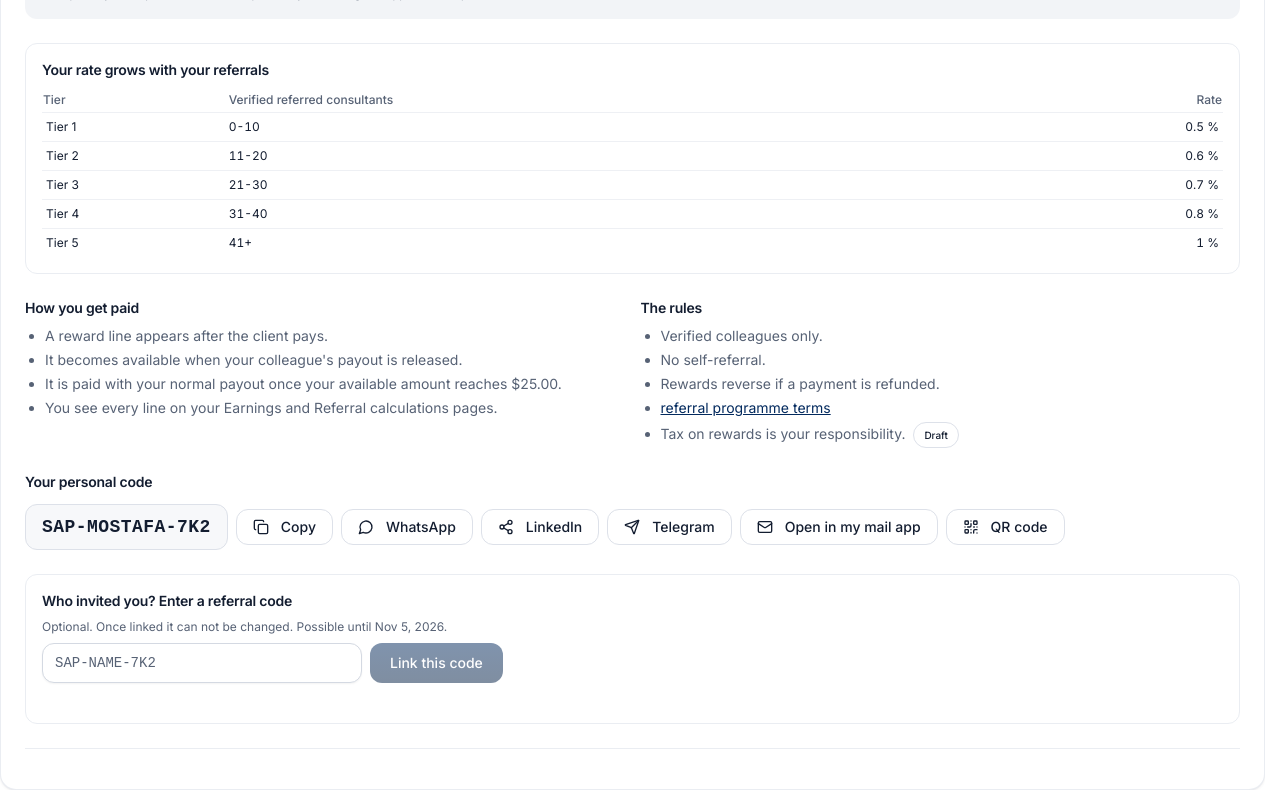
it: Refer & earn onboarding step › validates "Who invited you?" live and shows the masked owner name
(page scrolled)
Type "sap-rami-7k2" into the field with placeholder "SAP-NAME-7K2" at (202, 662), box x1=42 y1=642 x2=362 y2=682
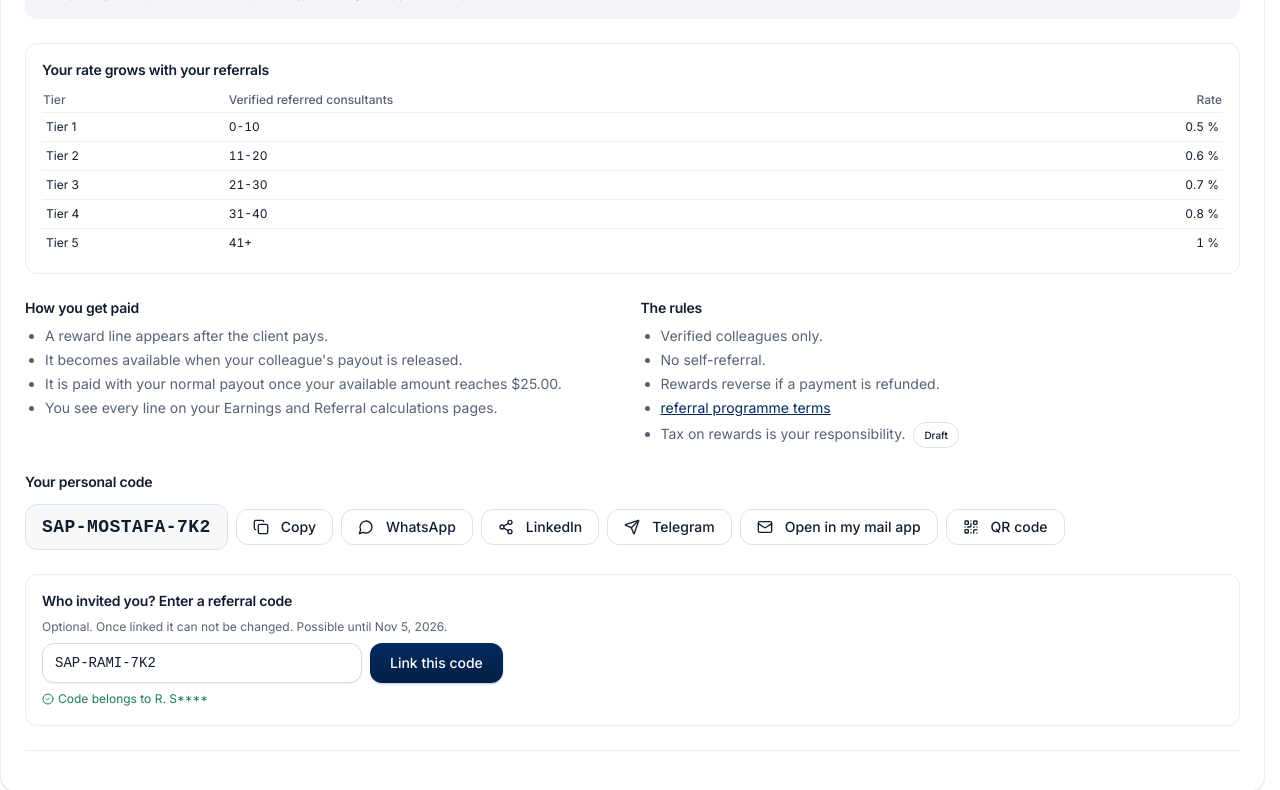
Check: the text "Code belongs to R. S****" is shown, box x1=42 y1=690 x2=208 y2=706
